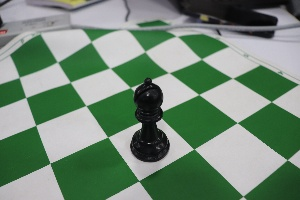black_bishop: (125, 70, 177, 165)
